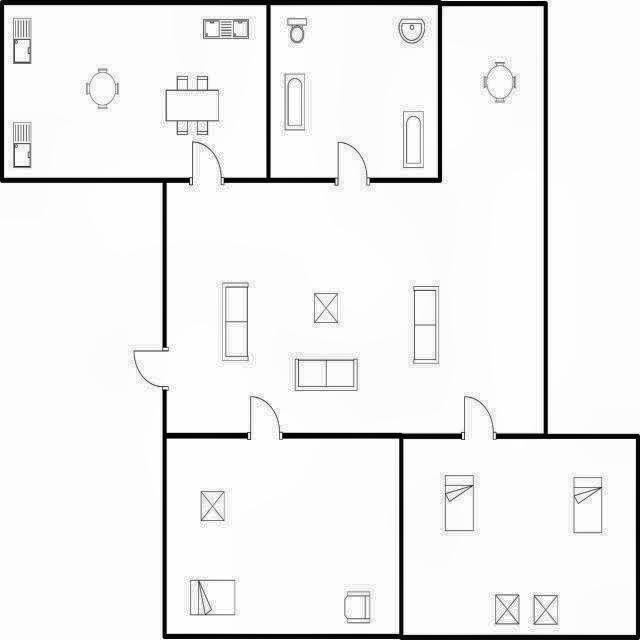room: (166, 6, 544, 434), (166, 438, 400, 634), (403, 439, 636, 635), (4, 5, 266, 178), (270, 4, 438, 178)
